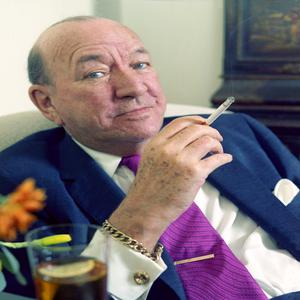cigarette: (202, 95, 235, 128)
